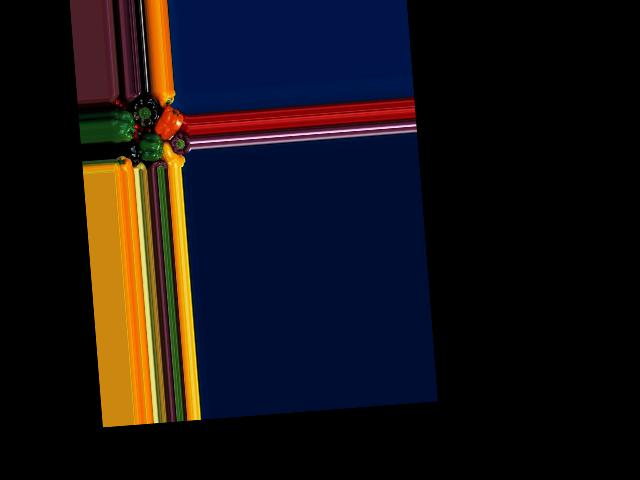bell_pepper: (108, 107, 133, 142)
